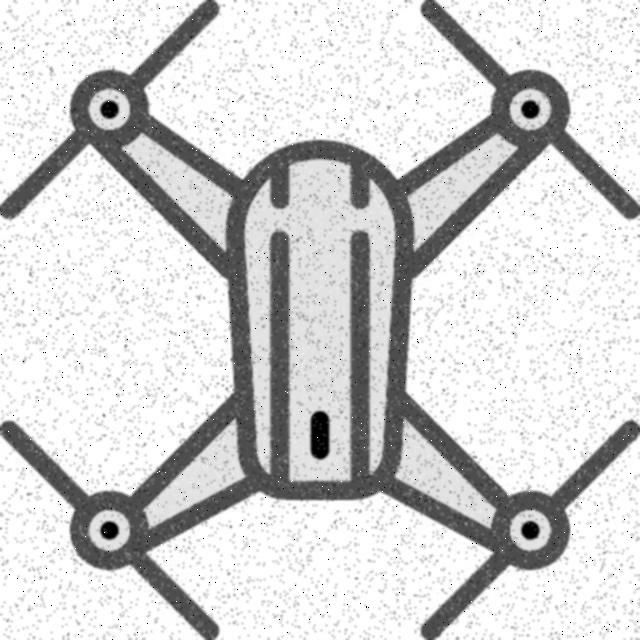drone: (1, 1, 640, 640)
